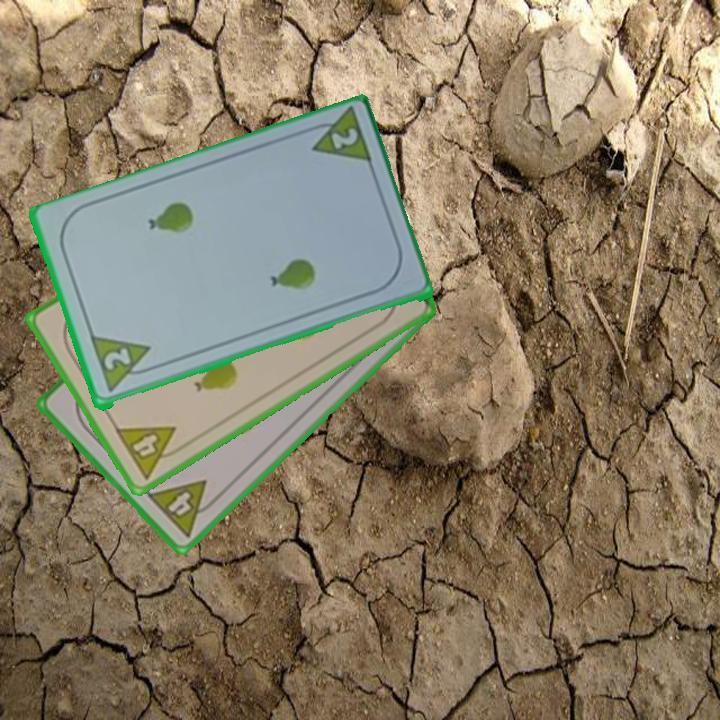2p: (100, 345, 134, 374), (327, 124, 361, 153)
4p: (143, 476, 224, 541), (111, 422, 189, 482)
